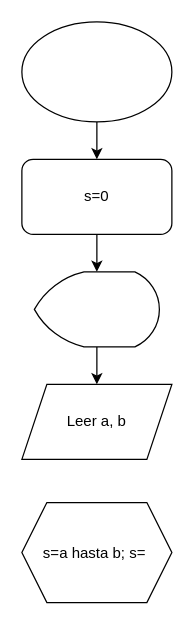
This 194x625 diagram has some shape labels left out. The shapes that lost their labels are listed below. From the top down, each one's centre as x and y in pixels, then its label:
(x=96, y=71): Inicio
(x=96, y=309): "Introducir a y b"
